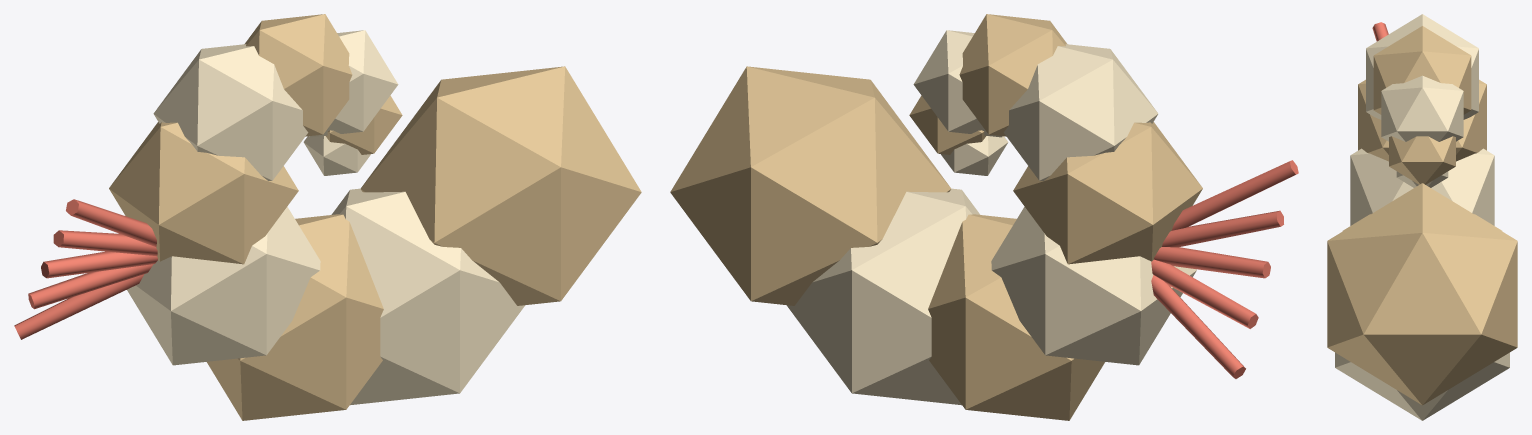
The model's file is discovery-nautilus.glb.
3 views of the same model, side by side, from view 1: azimuth 30°, elevation 25°; view 2: azimuth 150°, elevation 25°; view 3: azimuth 270°, elevation 25° (orthographic). The views are drawn at different scales.
Parts seen in each view (by area): view 1: nautilus-shell-ridge (×10), nautilus-tentacle (×5); view 2: nautilus-shell-ridge (×10), nautilus-tentacle (×5); view 3: nautilus-shell-ridge (×9), nautilus-tentacle.
Part boxes in pixels (<box>): nautilus-shell-ridge (×10): <box>109,14,641,420</box>; nautilus-tentacle (×5): <box>14,199,157,339</box>; nautilus-shell-ridge (×10): <box>670,14,1202,420</box>; nautilus-tentacle (×5): <box>1151,160,1298,378</box>; nautilus-shell-ridge (×9): <box>1327,14,1517,420</box>; nautilus-tentacle: <box>1372,22,1388,41</box>.
Bounding box in the file's own units: 4.28 × 2.88 × 1.57.
